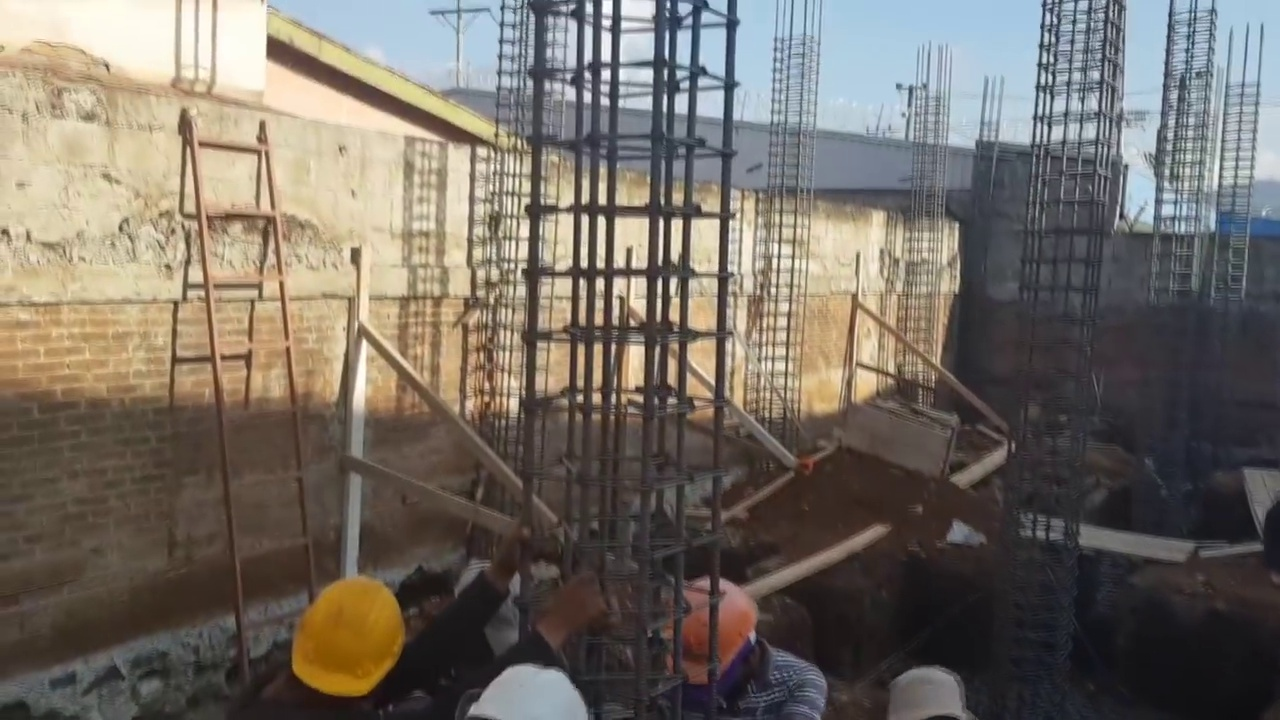helmet: (293, 586, 400, 699), (678, 582, 758, 699), (454, 655, 596, 720), (883, 677, 978, 720)
helmet-on: (242, 576, 410, 718), (660, 579, 772, 705)
